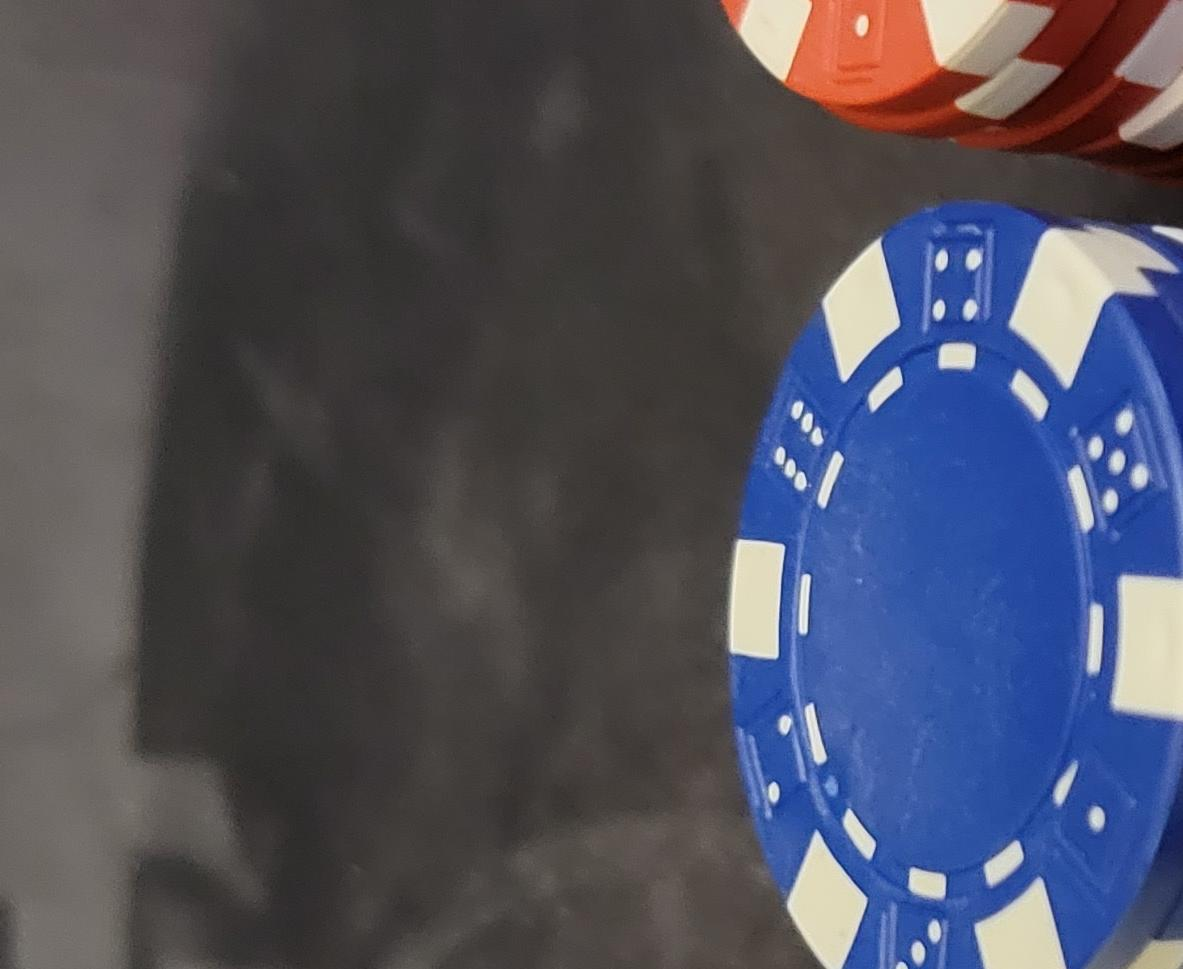Chip: (1, 286, 806, 969)
